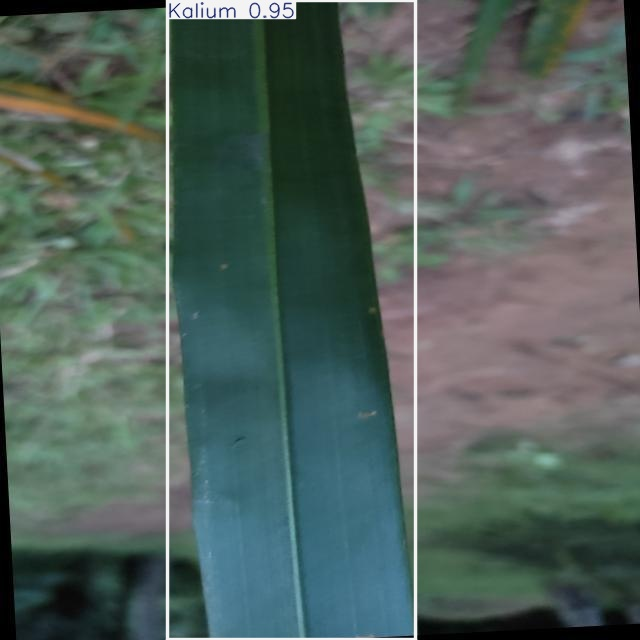Kalium: (167, 0, 415, 640)
